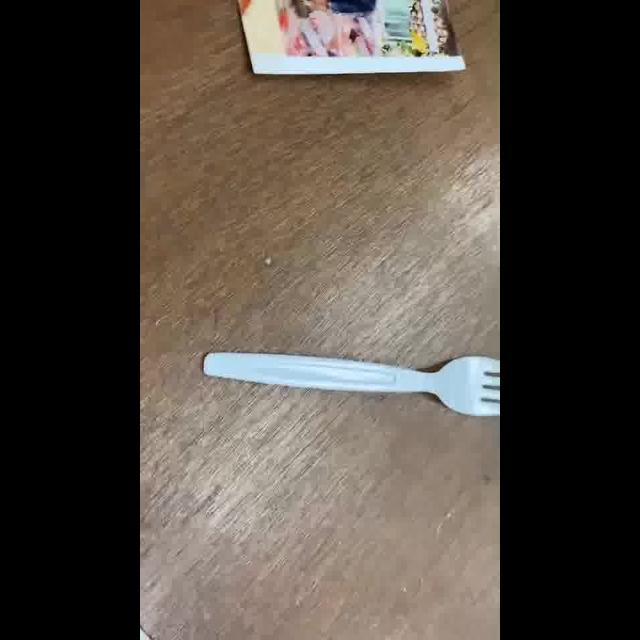plastic_cultery: (205, 350, 500, 414)
